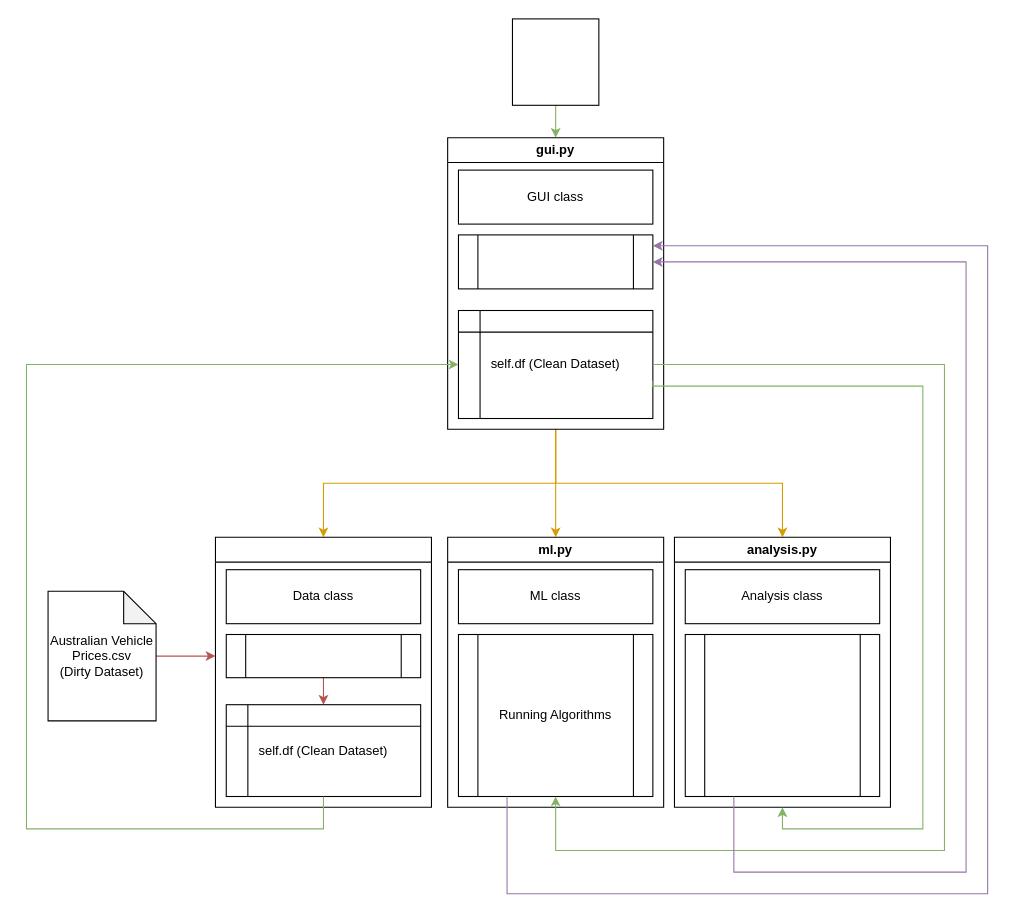
The diagram is 1015 pixels wide and 921 high, and some of its shapes have lost their labels. Each missing label, with the box of its shape:
Clean Dataset: (225, 633, 421, 678)
data.py: (214, 536, 431, 807)
main.py: (511, 18, 599, 105)
Run website: (457, 234, 653, 289)
Running Analysis: (684, 633, 880, 796)
